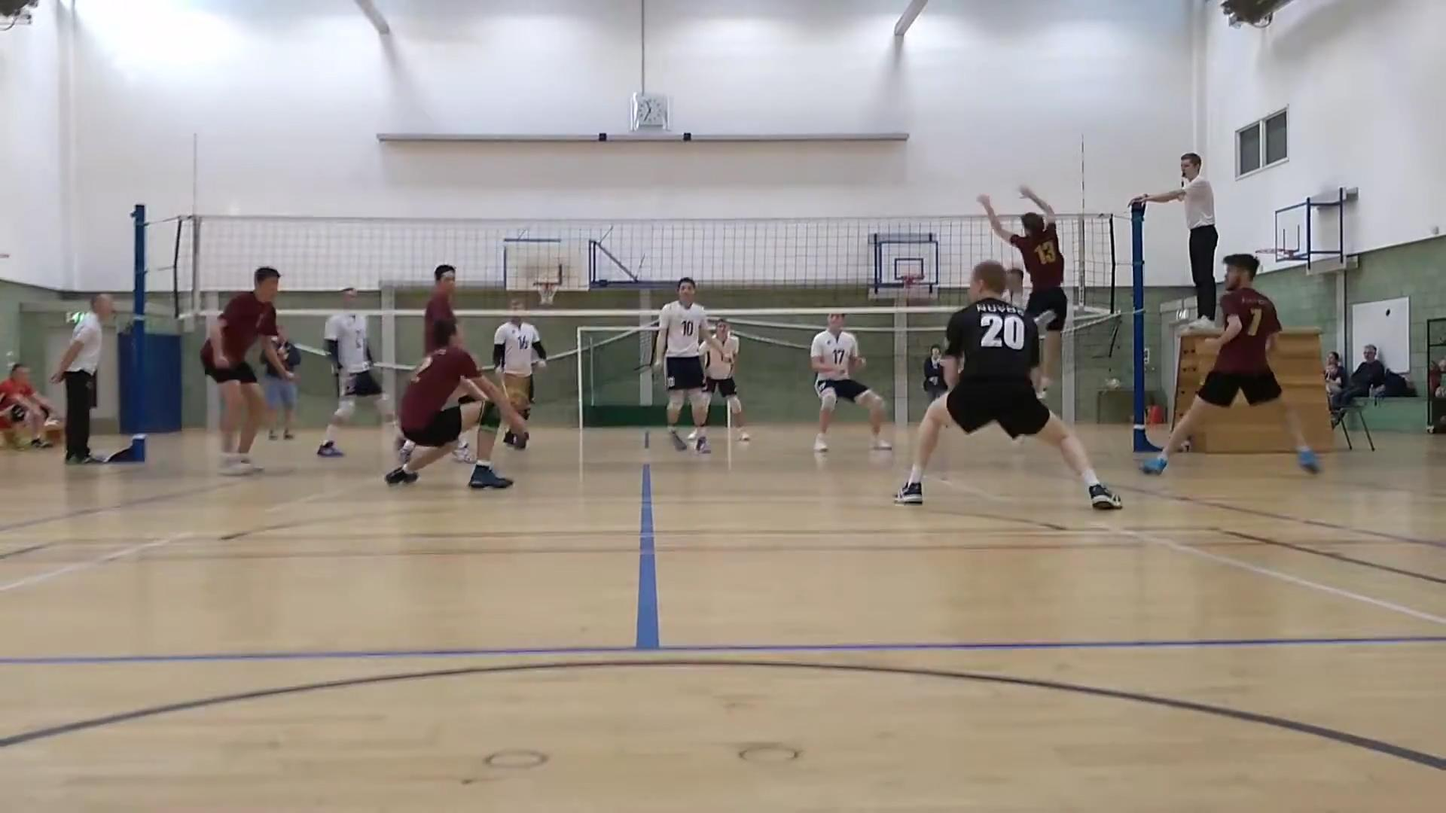difesa: (383, 328, 532, 489)
muro: (973, 185, 1069, 375)
